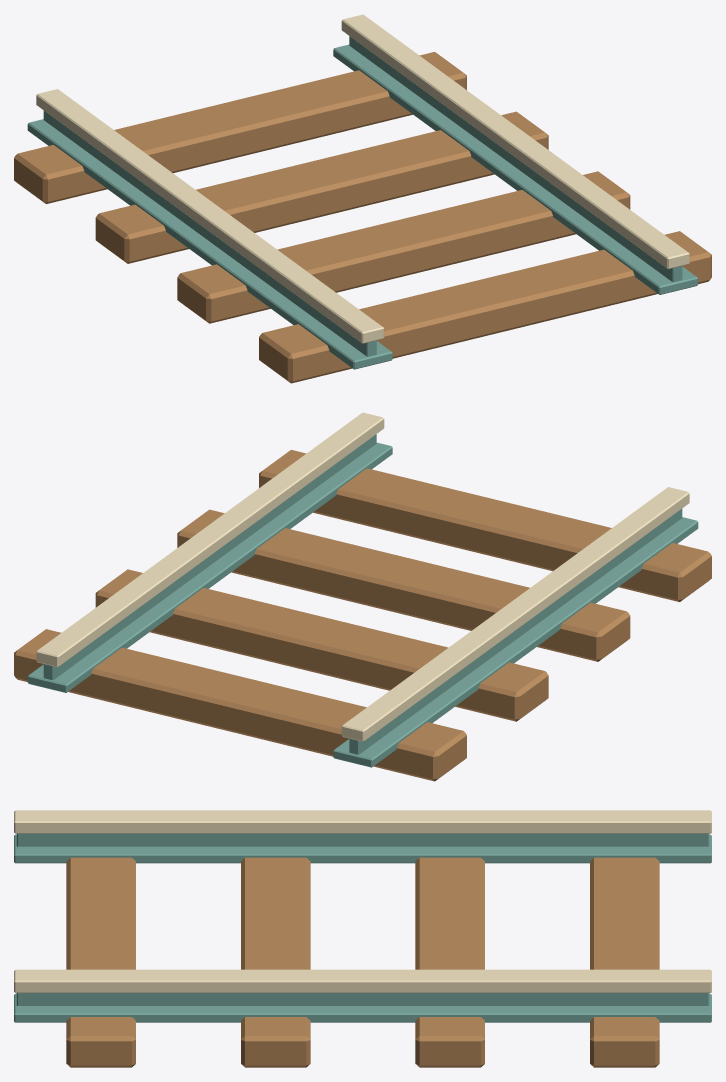
3 views of the same model, one above another, from view 1: azimuth 30°, elevation 25°; view 2: azimuth 150°, elevation 25°; view 3: azimuth 270°, elevation 25° (orthographic). The views are drawn at different scales.
Visible parts, largest first — view 1: railway-straight-track-01; view 2: railway-straight-track-01; view 3: railway-straight-track-01.
Part boxes in pixels (x1,y1,x2,y2): railway-straight-track-01: (14,14,711,383); railway-straight-track-01: (14,412,711,781); railway-straight-track-01: (14,810,711,1067).
Size of the model in its own units: 1.5 by 0.2 by 2.
